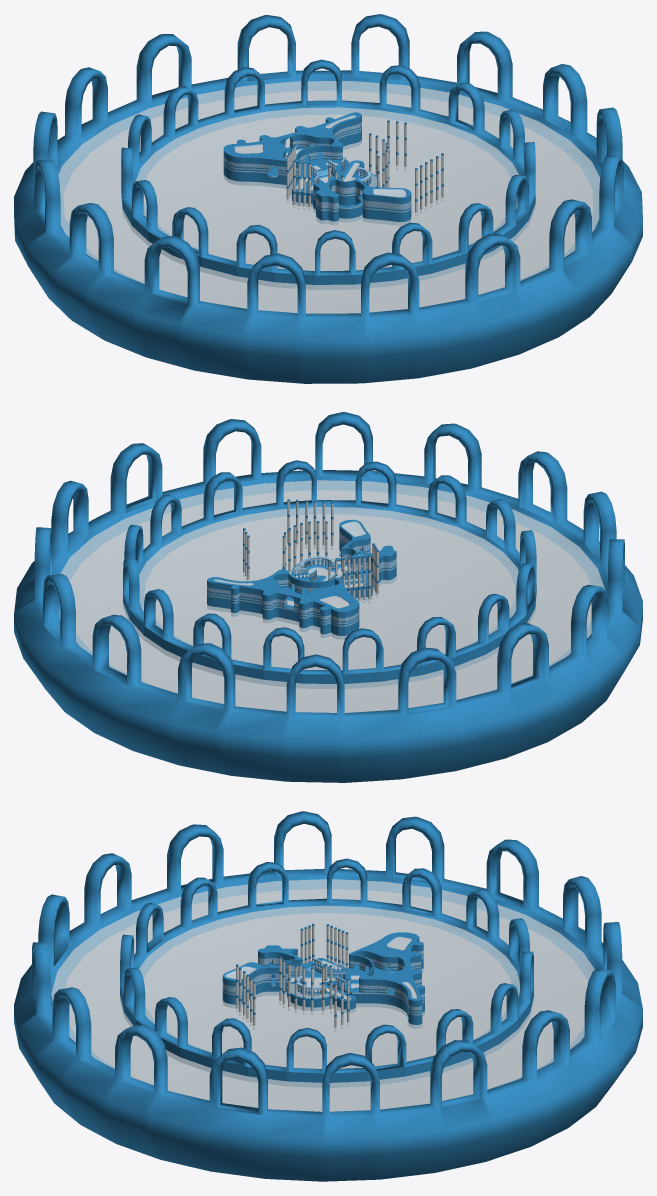
Rendered from AQUATIC 1.fbx.
3 renders of one model, top to bottom at view 1: azimuth 30°, elevation 25°; view 2: azimuth 150°, elevation 25°; view 3: azimuth 270°, elevation 25°, orthographic.
Parts seen in each view (by area): view 1: FOUNTAIN.002, WATER, FOUNTAIN, LOWER WALLS, FOUNTAIN.001, PILLARS, LOWER GROUND; view 2: FOUNTAIN.002, WATER, FOUNTAIN, LOWER WALLS, FOUNTAIN.001, PILLARS, LOWER GROUND, archs; view 3: FOUNTAIN.002, WATER, FOUNTAIN, LOWER WALLS, FOUNTAIN.001, PILLARS, LOWER GROUND, archs.
Part boxes in pixels (x1,y1,x2,y2): FOUNTAIN.002: (14,14,642,383); WATER: (58,81,600,313); FOUNTAIN: (121,59,535,275); LOWER WALLS: (223,112,411,225); FOUNTAIN.001: (121,184,535,289); PILLARS: (286,120,443,215); LOWER GROUND: (317,160,379,187); FOUNTAIN.002: (14,412,642,782); WATER: (59,480,604,712); FOUNTAIN: (123,460,536,674); LOWER WALLS: (207,519,396,639); FOUNTAIN.001: (123,584,536,688); PILLARS: (243,499,378,603); LOWER GROUND: (291,560,356,581); archs: (294,556,357,581); FOUNTAIN.002: (14,811,642,1181); WATER: (51,879,594,1111); FOUNTAIN: (120,858,533,1073); LOWER WALLS: (222,932,424,1028); FOUNTAIN.001: (120,986,533,1087); PILLARS: (236,923,349,1031); LOWER GROUND: (287,966,355,1001); archs: (297,957,346,995).
Size of the model in its own units: 389 by 83.66 by 389.
